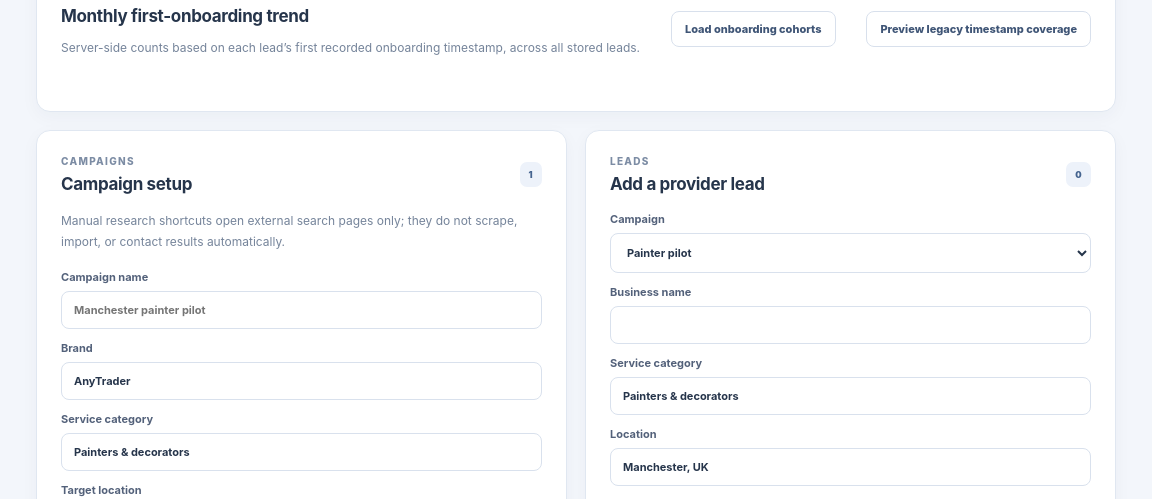
cloud authentication gate › reuses the same manual lead idempotency key and payload after an uncertain failure
(page scrolled)
Step 1. Type "Retry-safe Painting Ltd" into the field labelled "Business name" → (850, 325), box [610,306,1091,344]
(page scrolled)
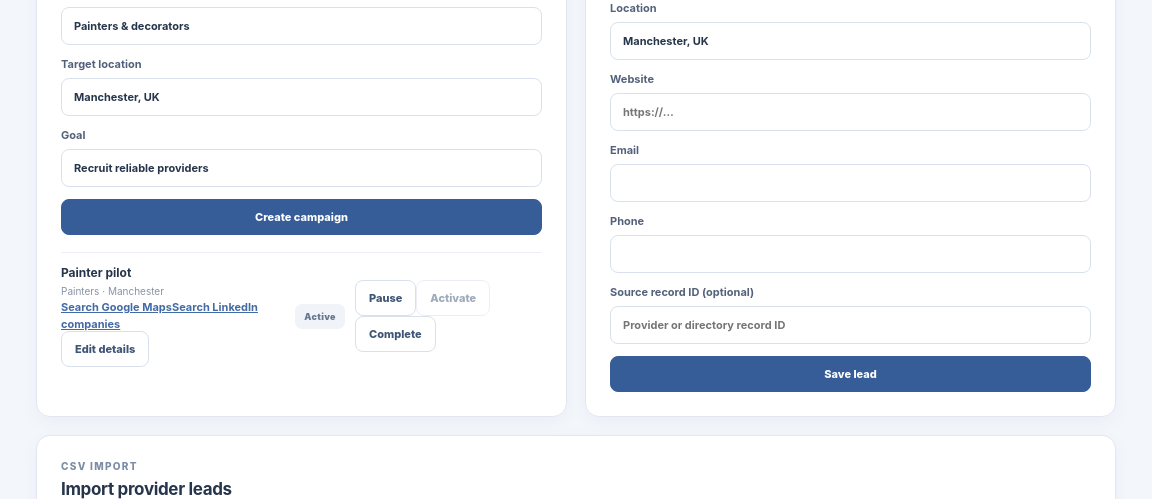
Step 2. Type "manual-directory-42" into the field labelled "Source record ID (optional)" → (850, 325), box [610,306,1091,344]
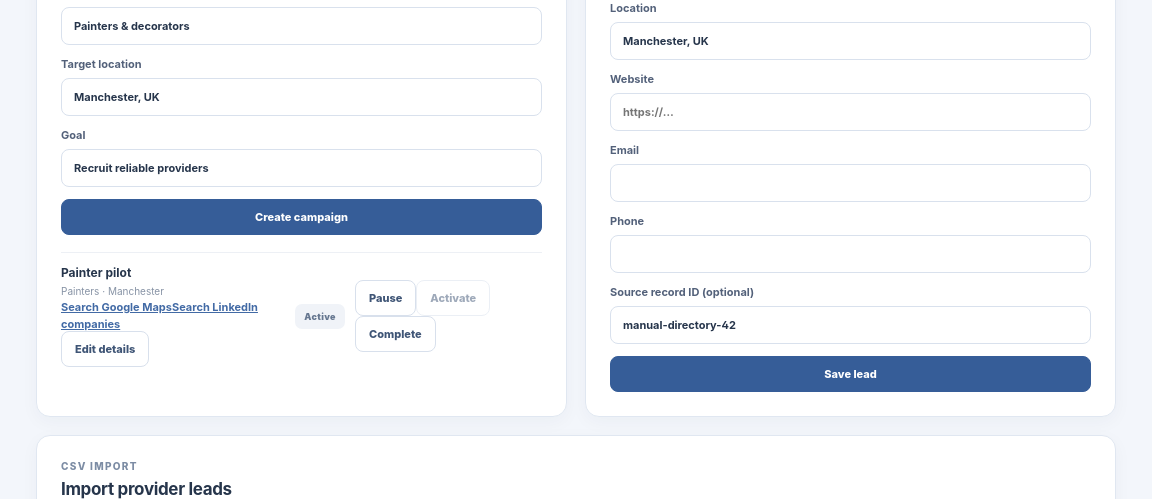
Step 3. Click the button "Save lead" → (850, 374), box [610,356,1091,392]
(page scrolled)
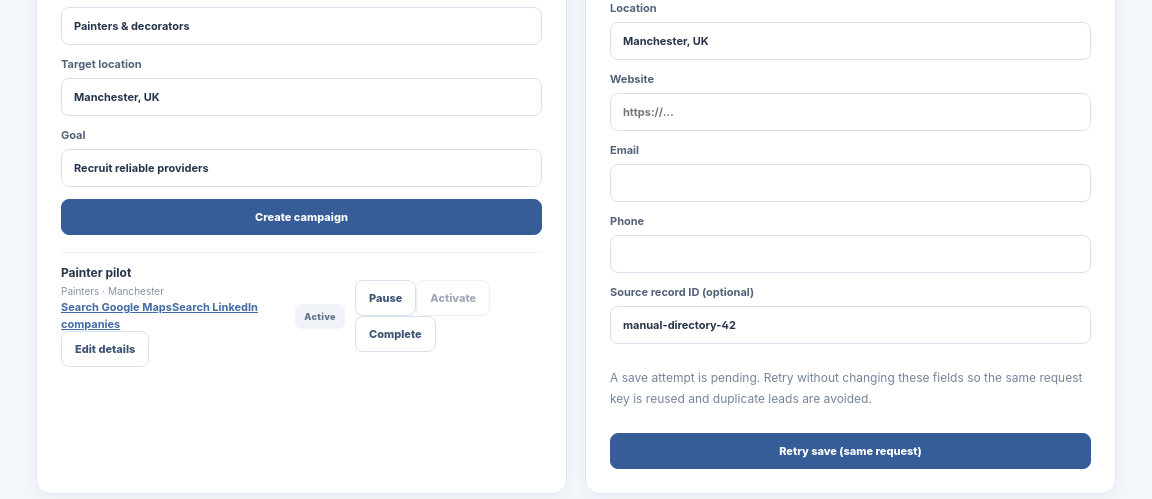
Check: the button "Retry save (same request)" is shown
Step 4. Click the button "Retry save (same request)" → (850, 451), box [610,433,1091,469]
(page scrolled)
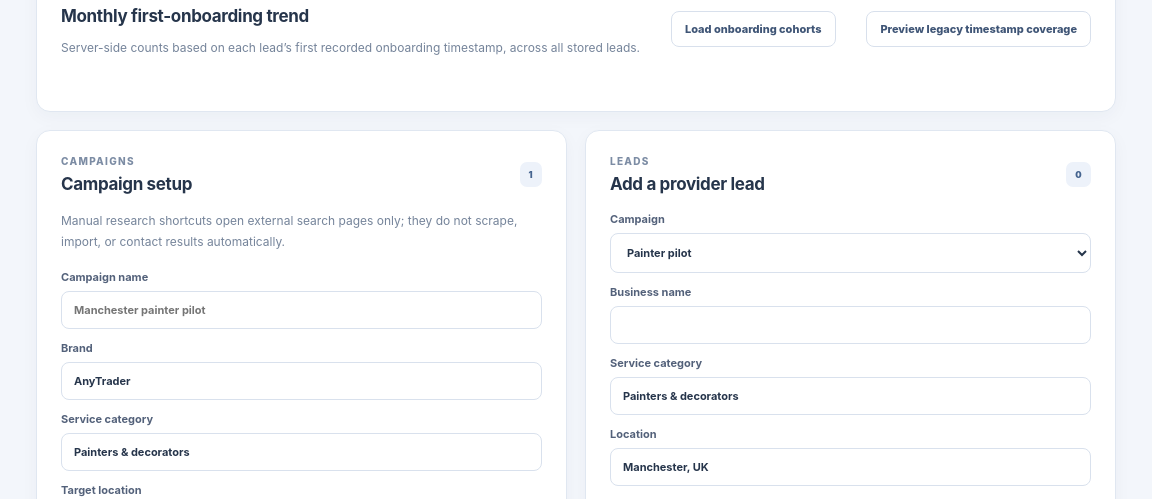
Check: the field labelled "Business name" is empty, box [610,306,1091,344]
Check: the field labelled "Business name" is enabled, box [610,306,1091,344]
